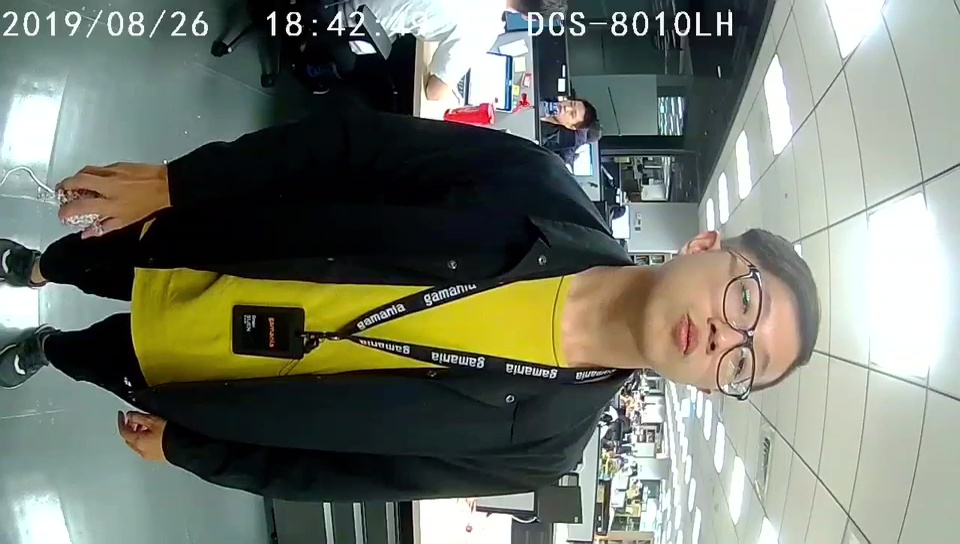pig: (56, 189, 104, 233)
